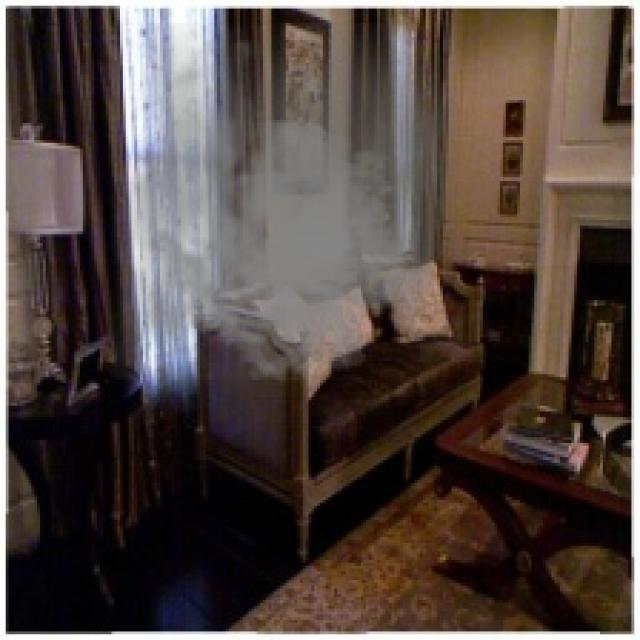Smoke: (111, 22, 460, 392)
